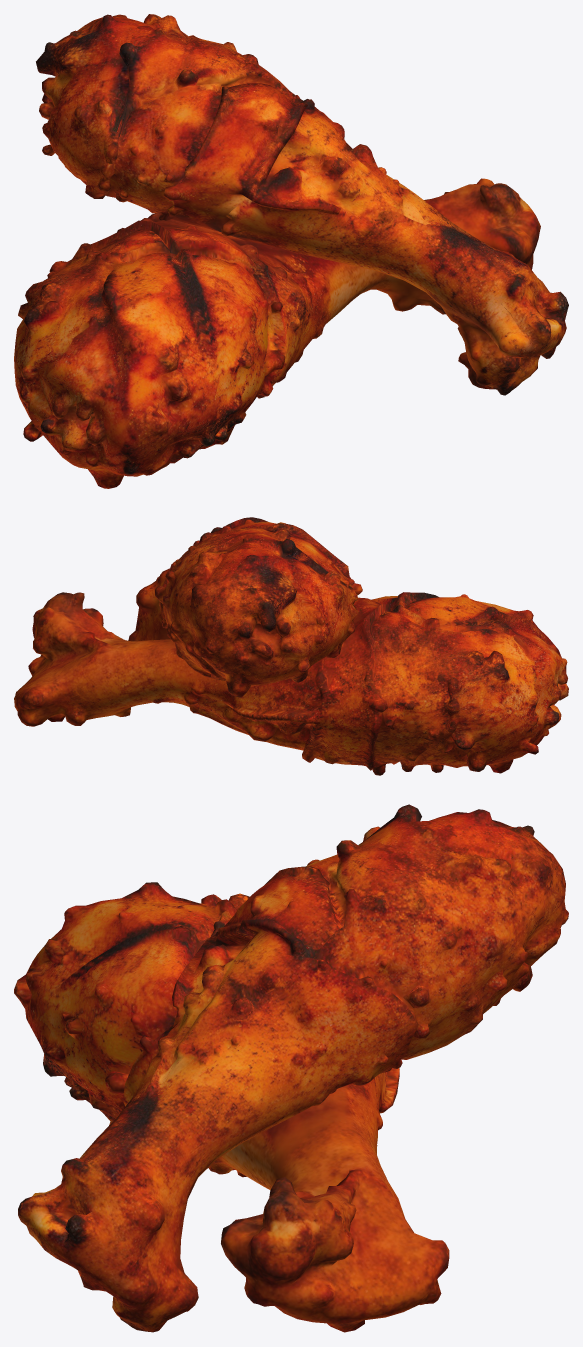
The model's file is bbq_chicken_drumsticks_pair.glb.
The picture shows the model from 3 angles, top to bottom: view 1: azimuth 30°, elevation 25°; view 2: azimuth 150°, elevation 25°; view 3: azimuth 270°, elevation 25°; orthographic projection. The views are drawn at different scales.
Visible parts, largest first — view 1: tripo_node_39e19728-218d-4159-9455-8d27f4c81a6d; view 2: tripo_node_39e19728-218d-4159-9455-8d27f4c81a6d; view 3: tripo_node_39e19728-218d-4159-9455-8d27f4c81a6d.
Boxes of the visible parts, x1,y1,x2,y2 form: tripo_node_39e19728-218d-4159-9455-8d27f4c81a6d: (14, 14, 568, 488); tripo_node_39e19728-218d-4159-9455-8d27f4c81a6d: (14, 517, 568, 775); tripo_node_39e19728-218d-4159-9455-8d27f4c81a6d: (14, 804, 568, 1332).
Bounding box in the file's own units: 0.9995 × 0.564 × 0.7495.
1 material, 1 textured.
